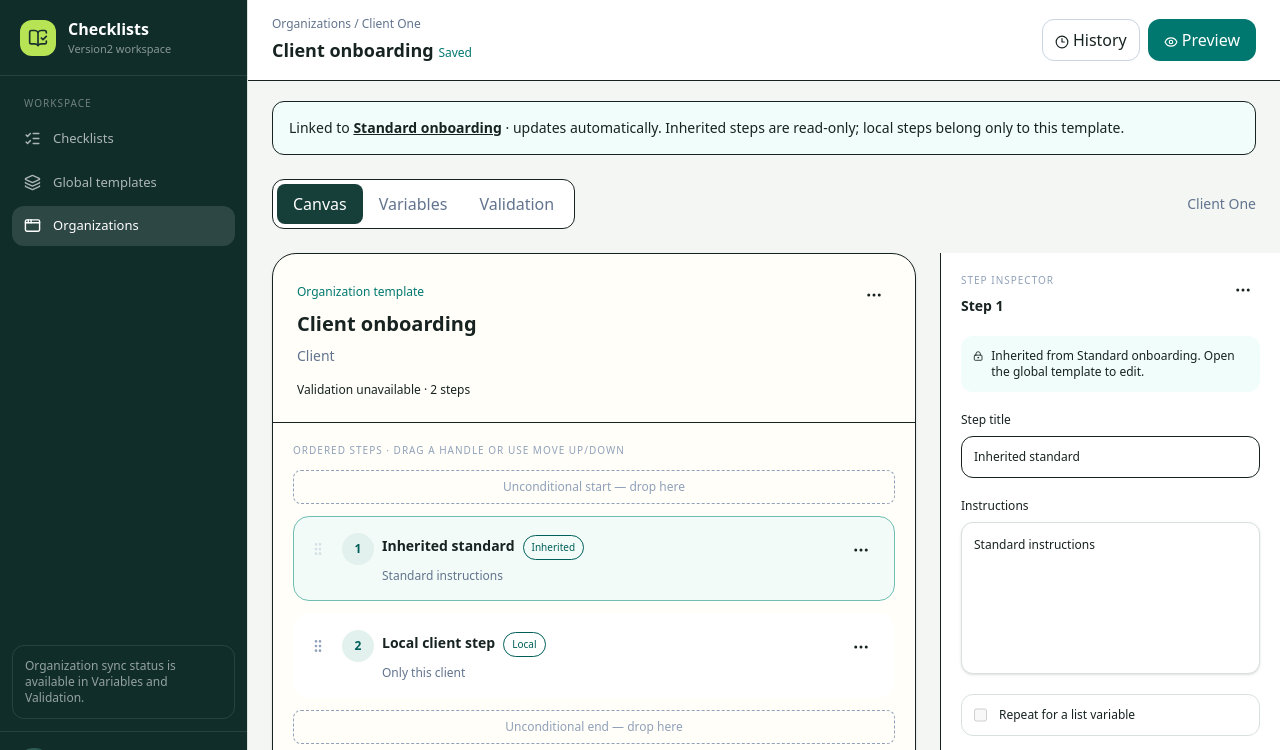
Test: new template authoring › switches variable/validation panels without syncing IT Glue
Click the tab "Variables".
click(413, 204)  # box [363,184,463,224]
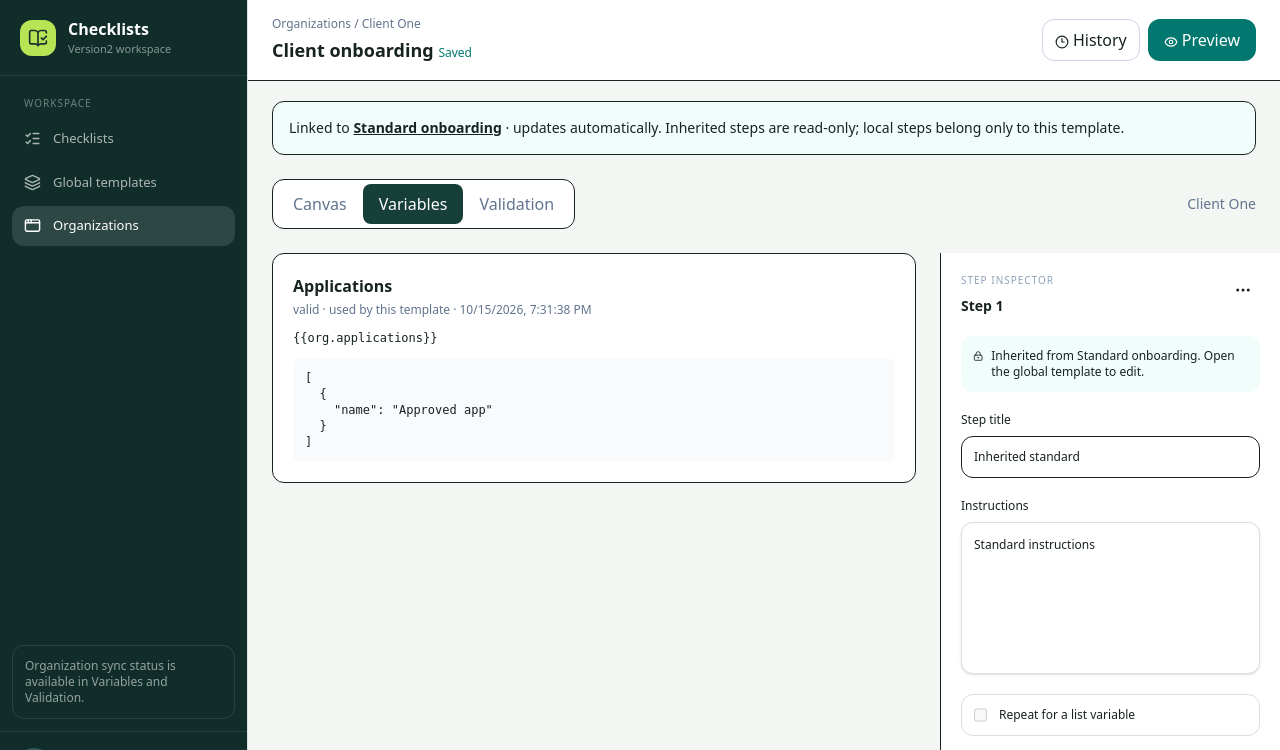
expect the text "[ { \"name\": \"Approved app\" } ]" is shown: met, box [293,358,895,462]
Click the tab "Validation".
click(517, 204)  # box [463,184,570,224]
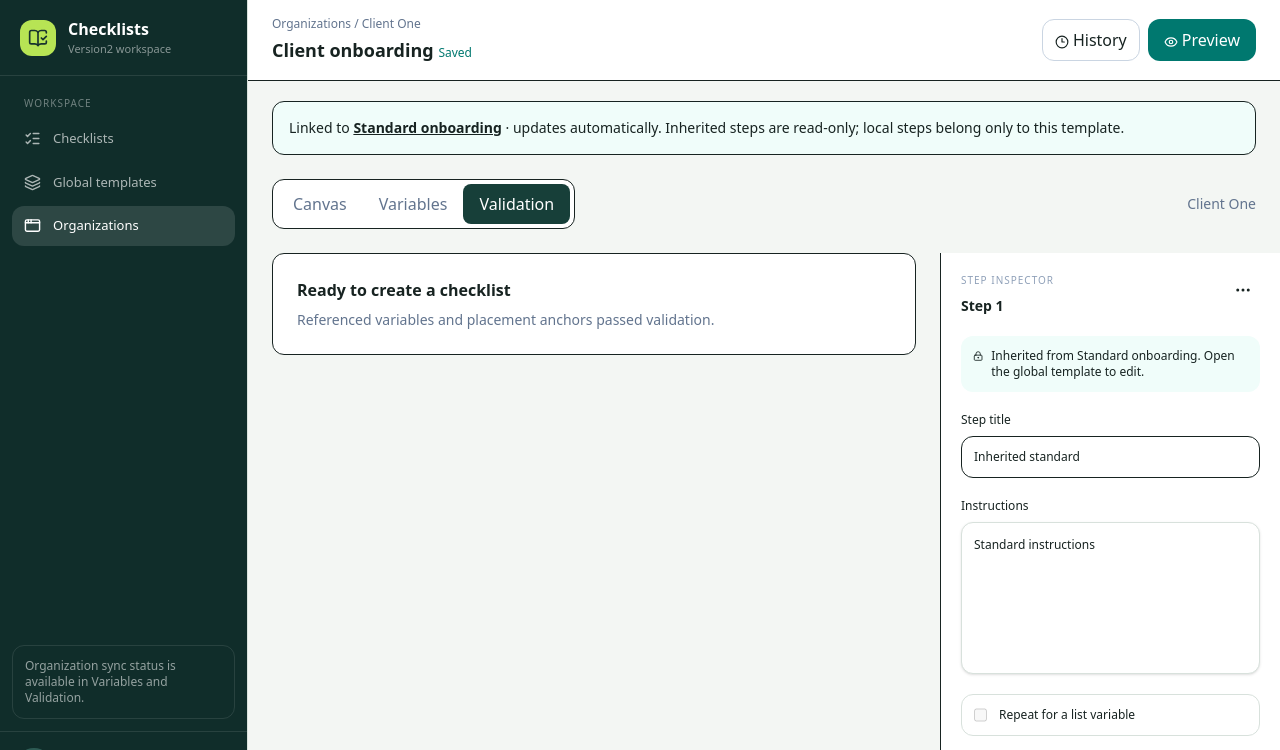
expect the heading "Ready to create a checklist" is shown: met, box [297,279,511,301]
